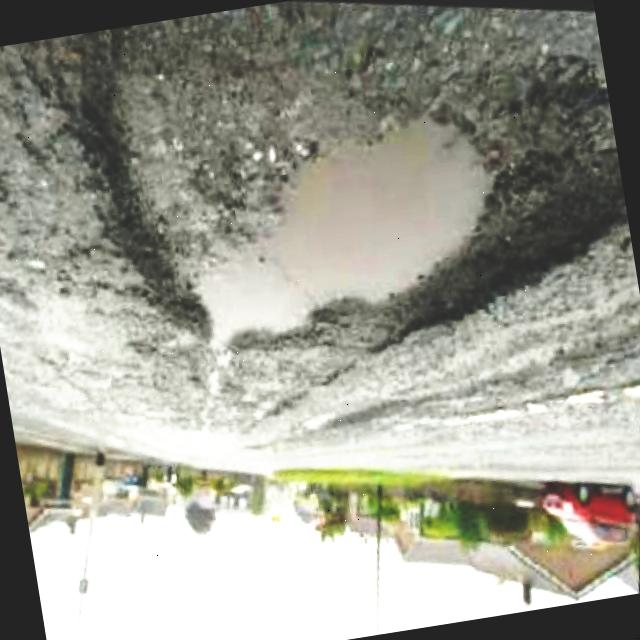pothole: (43, 0, 640, 439)
